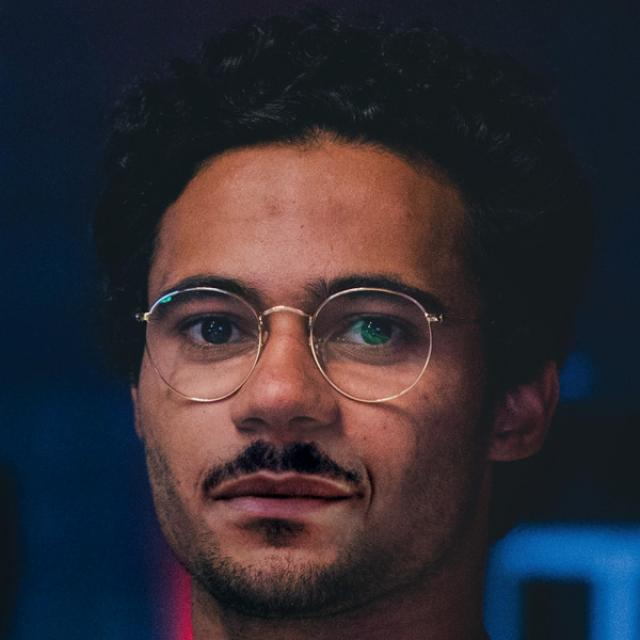face: (100, 64, 564, 626)
